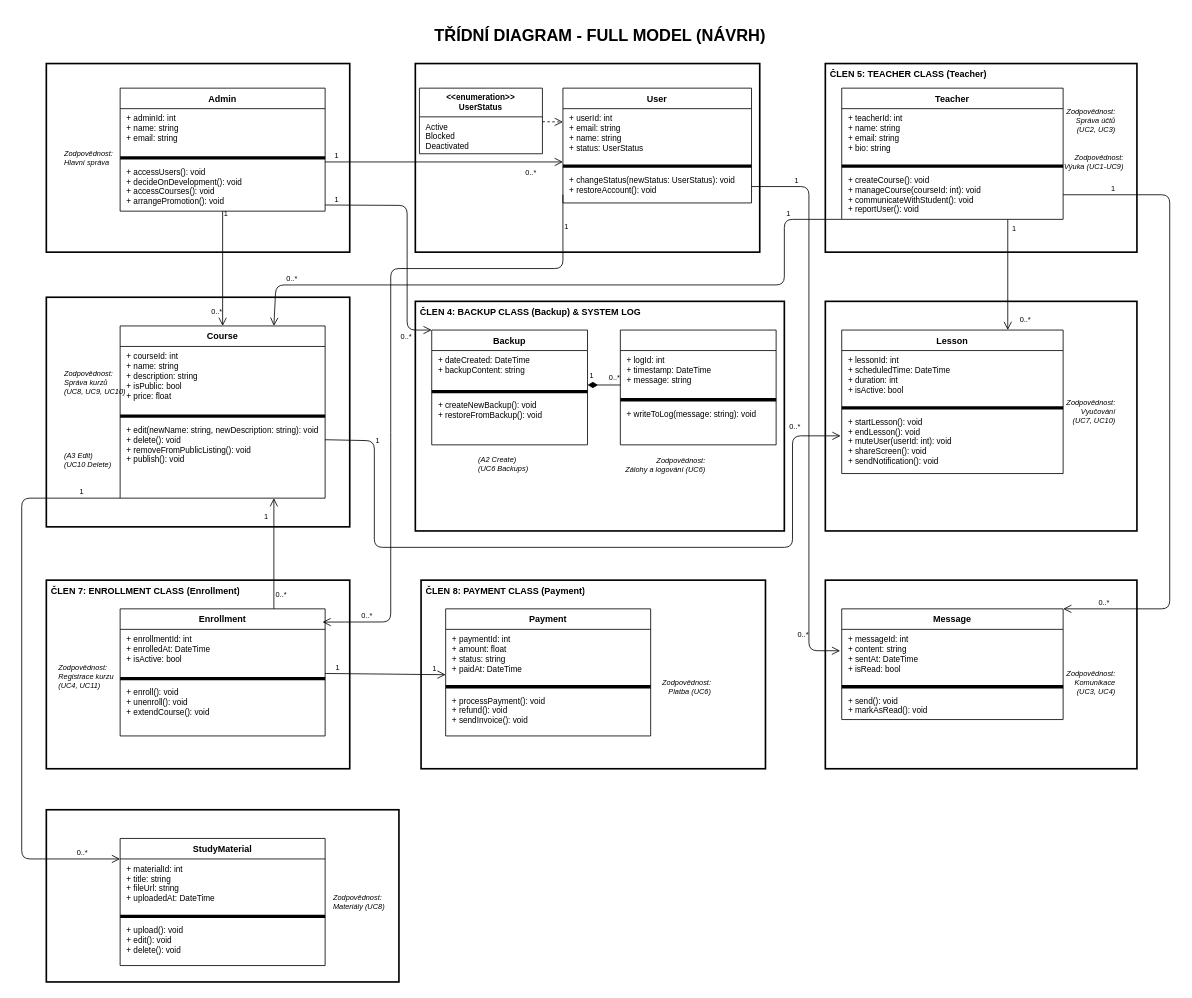
Some shapes in this 1192 by 998 pixel diagram are drawn without their labels. Each missing label, with the box of its shape:
SystemLog: (620, 329, 776, 445)
ČLEN 10: STUDY MATERIAL CLASS (StudyMaterial): (45, 809, 399, 982)
ČLEN 1: ADMIN CLASS (Admin): (45, 62, 350, 253)
ČLEN 2: USER CLASS (User): (414, 62, 760, 253)
ČLEN 3: COURSE CLASS (Course): (45, 296, 350, 527)
ČLEN 6: LESSON CLASS (Lesson): (824, 300, 1137, 531)
ČLEN 9: MESSAGE CLASS (Message): (824, 579, 1137, 769)
